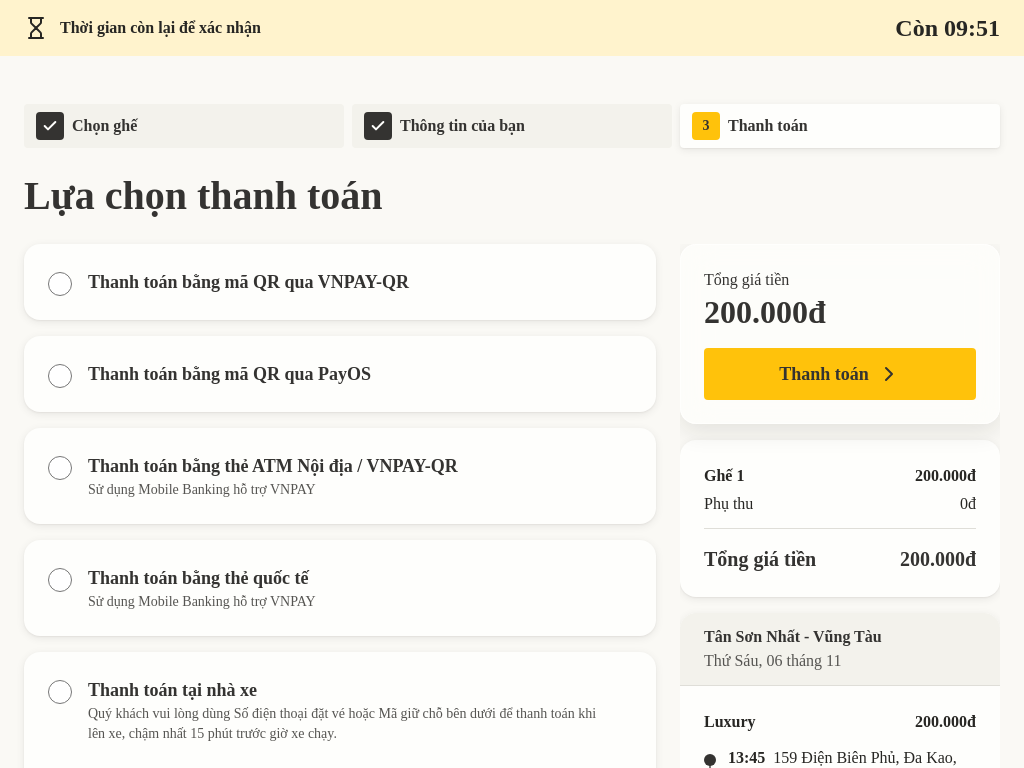
Test: PaymentPage: chuyển sang cổng VNPay và PayOS › PayOS: checkoutUrl không phải https bị từ chối: không chuyển trang, báo lỗi
This screenshot has width=1024, height=768.
Step 1. Click the radio button labelled "Thanh toán bằng mã QR qua PayOS" → coordinates (60, 376), box x1=48 y1=364 x2=72 y2=388
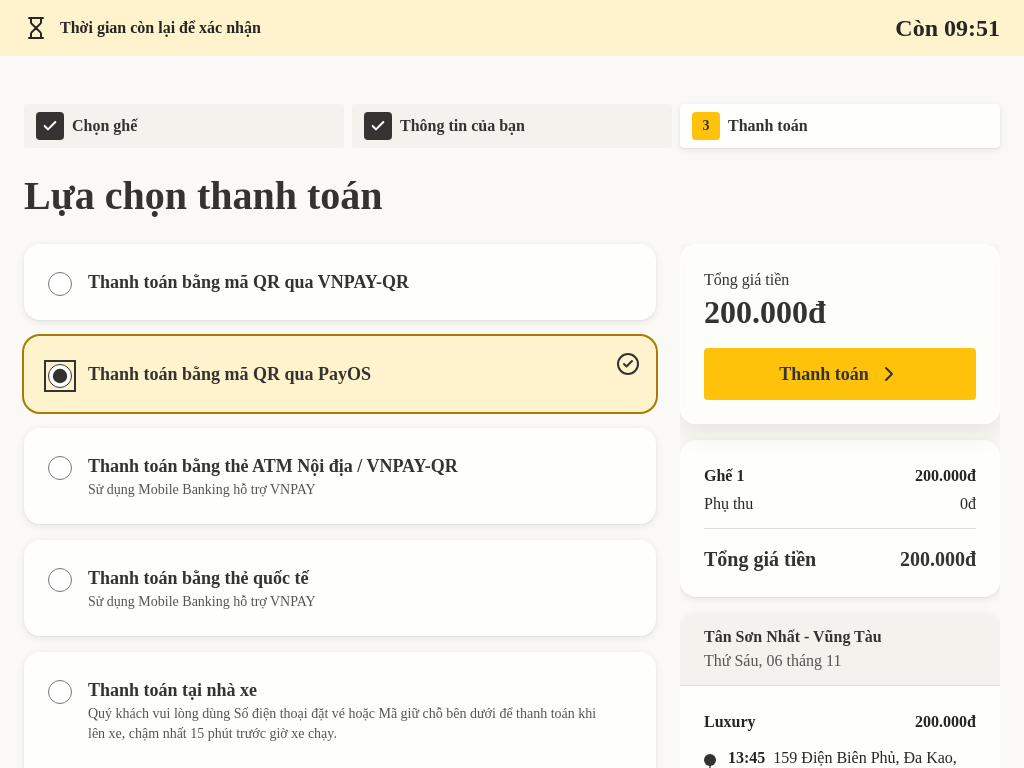
Step 2. Click the button "Thanh toán" → coordinates (840, 374), box x1=704 y1=348 x2=976 y2=400
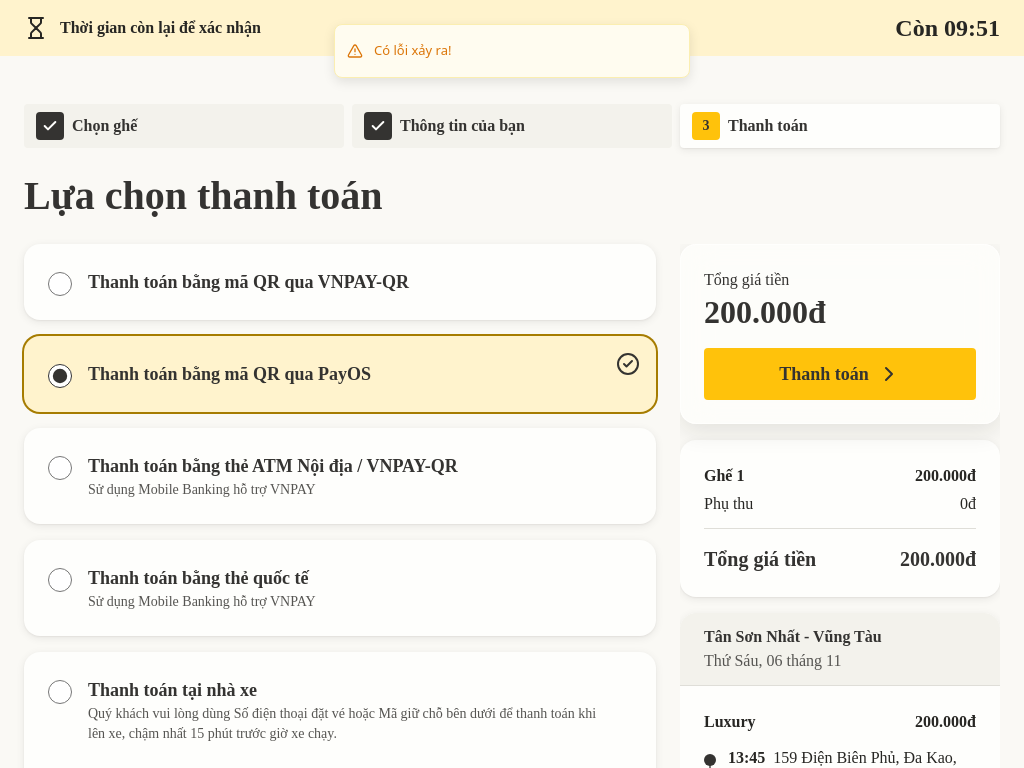
Result: the text "Có lỗi xảy ra!" is shown at x1=374 y1=41 x2=452 y2=60
